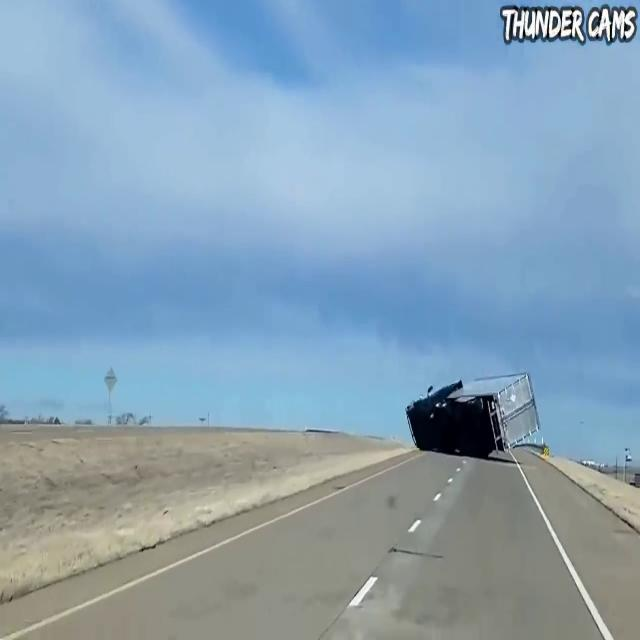accident: (398, 342, 550, 488)
